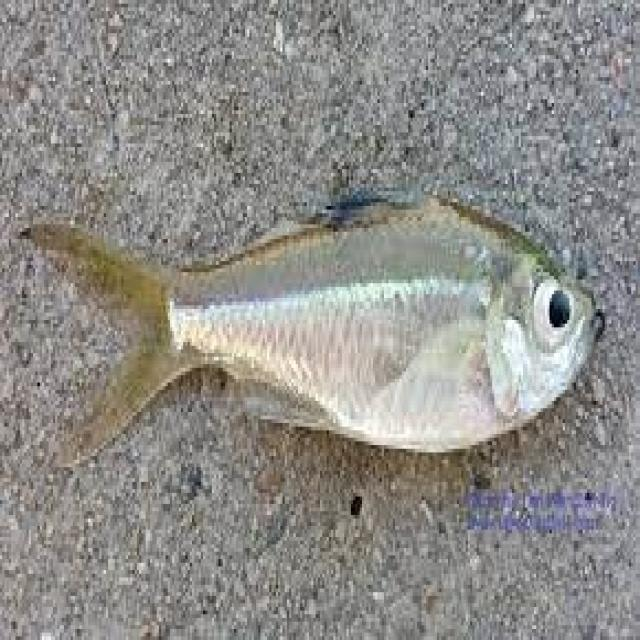Glass-Perchlet: (17, 121, 622, 564)
